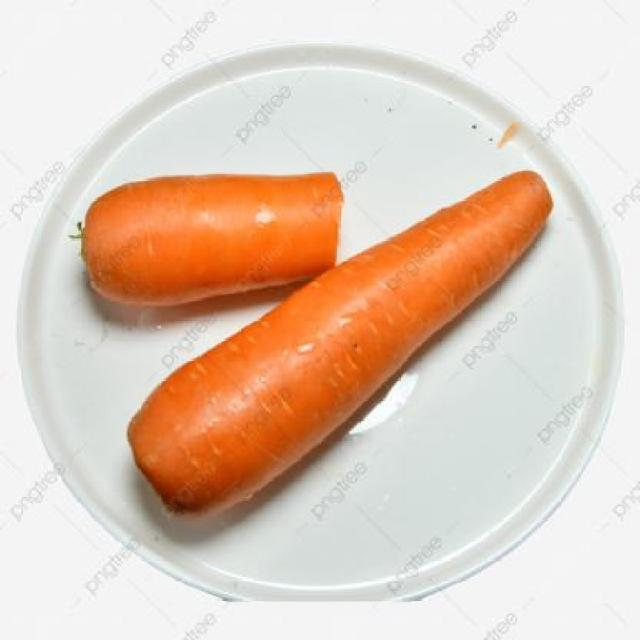carrot: (123, 165, 562, 526), (74, 161, 343, 301)
